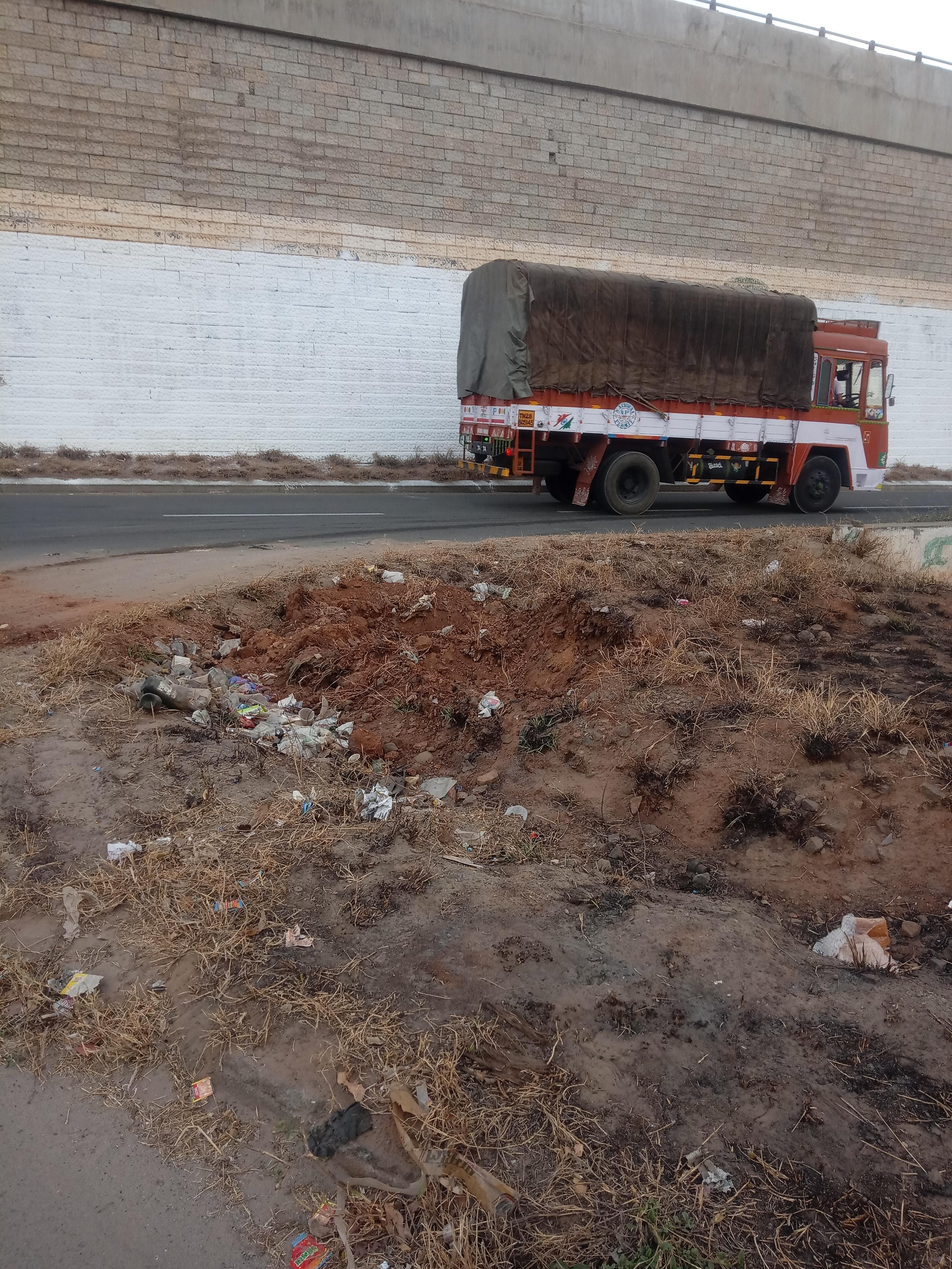Non-emergency: (349, 222, 952, 555)
